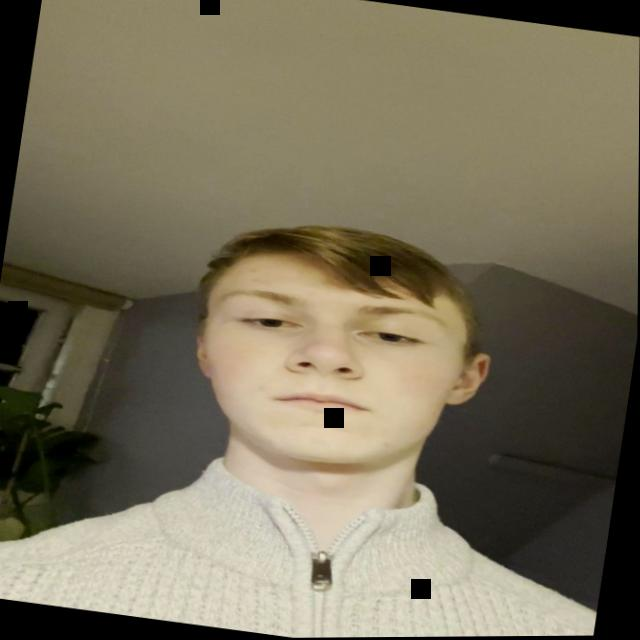NO-Mask: (163, 209, 504, 515)
